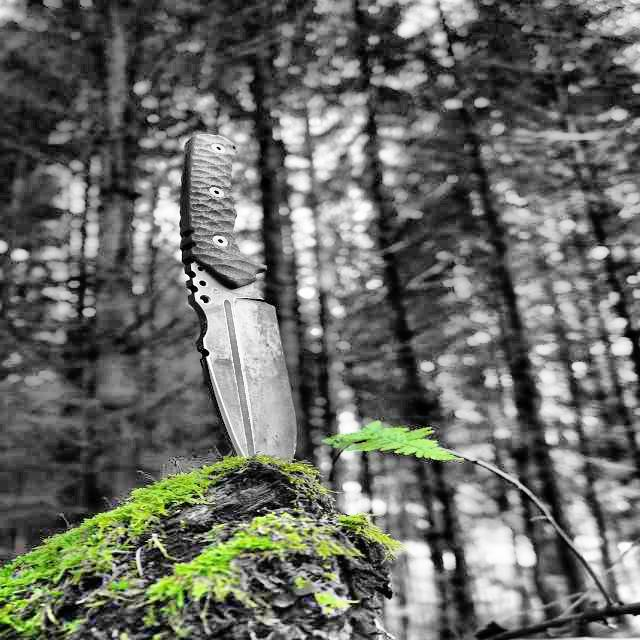knife: (175, 119, 314, 470)
